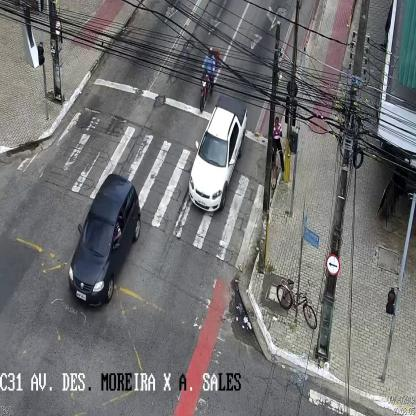bicycle: (277, 277, 317, 330), (269, 115, 287, 188)
car: (67, 174, 142, 310), (190, 107, 245, 213)
motorbike: (200, 47, 221, 114)
